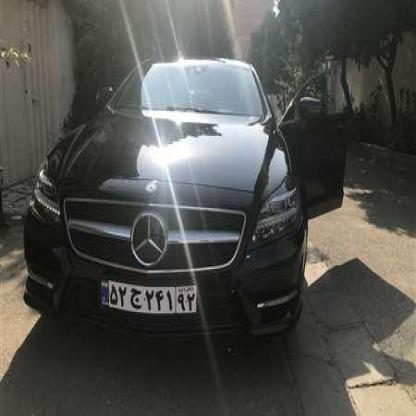Car: (19, 38, 314, 354)
